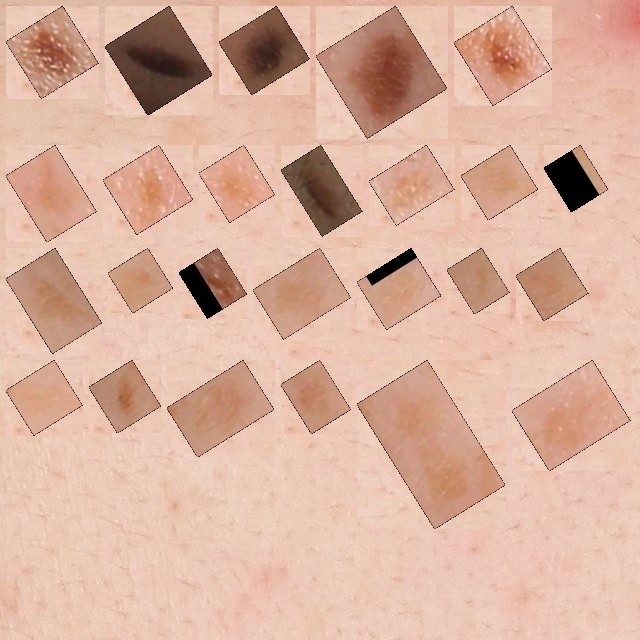melasma: (368, 371, 494, 518), (523, 371, 619, 460), (178, 371, 263, 446), (17, 259, 91, 342), (264, 259, 340, 328), (17, 156, 85, 231), (114, 156, 182, 223), (368, 259, 430, 318), (380, 156, 443, 214), (210, 156, 264, 211), (472, 156, 527, 209), (17, 371, 71, 424), (100, 371, 150, 422), (527, 259, 577, 309), (292, 371, 340, 423), (555, 156, 597, 201), (119, 259, 162, 302), (458, 259, 498, 303)
nevus: (327, 17, 436, 127), (116, 17, 201, 104), (465, 17, 541, 94), (17, 17, 87, 87), (230, 17, 298, 84), (292, 156, 351, 225)
